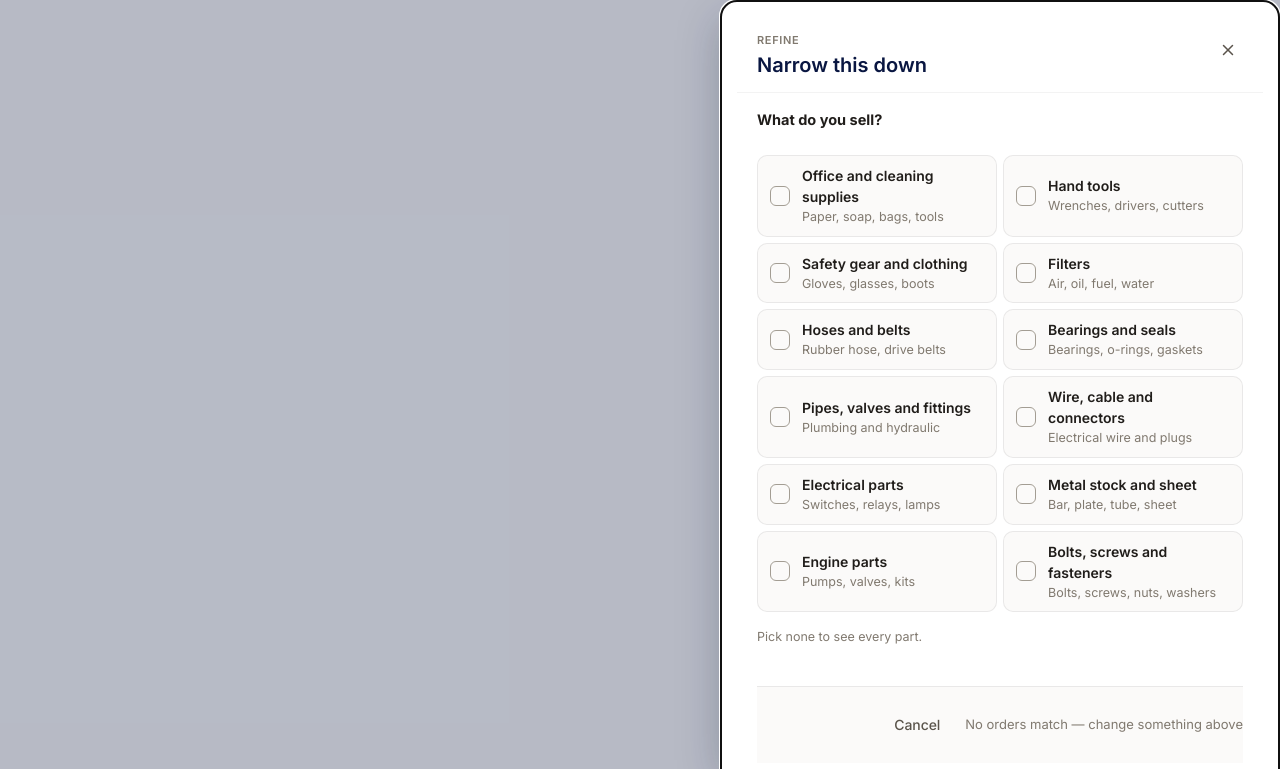
Test: the filter menu does not count a category it has not fetched › offers Show orders, with no number, once she changes a category
Step 1. Click the button "Filters Air, oil, fuel, water" → x=1123, y=273, box [1003, 242, 1243, 303]
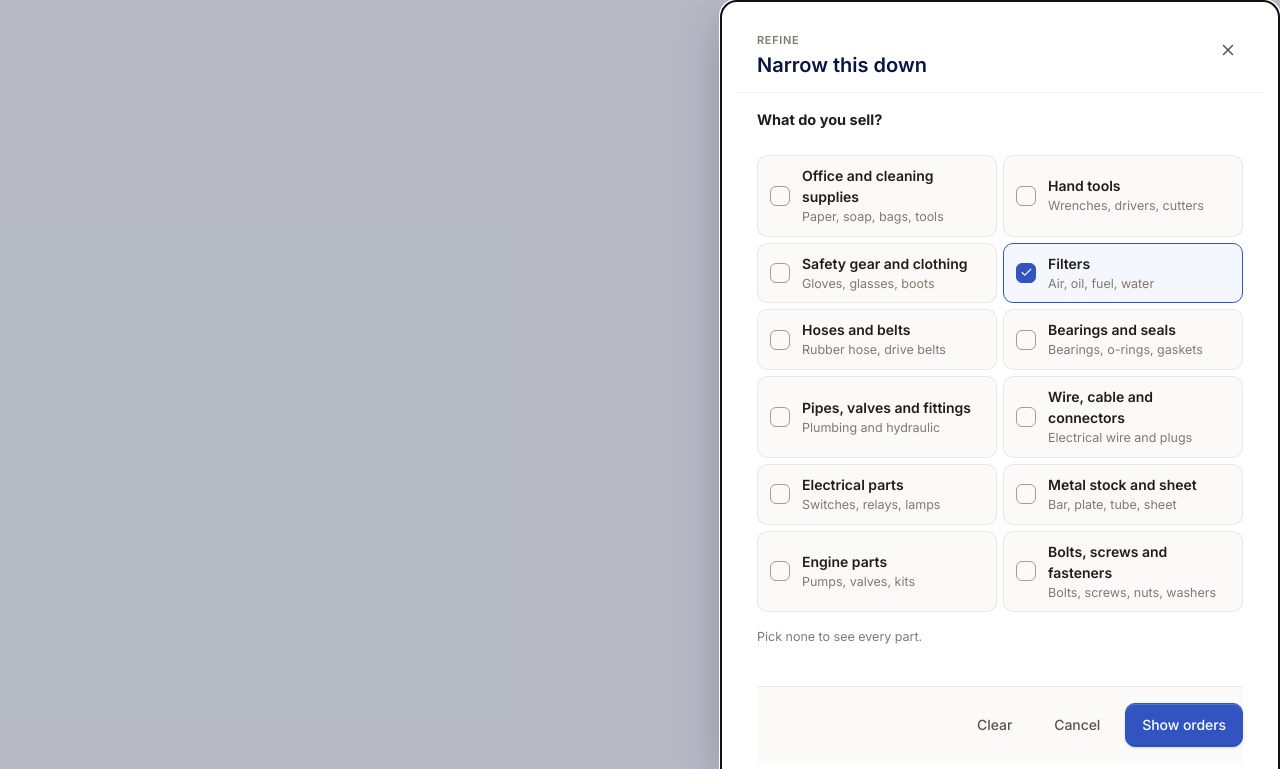
Expected: the button "Show orders" is shown, [1125, 703, 1243, 747]
Expected: the text "No orders match" is gone
